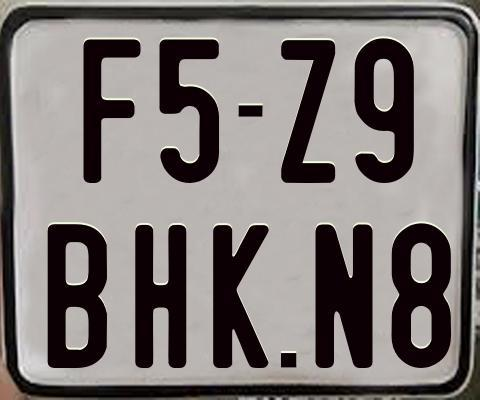5: (159, 37, 224, 186)
8: (389, 223, 453, 373)
9: (352, 38, 415, 186)
B: (47, 224, 111, 369)
F: (82, 38, 145, 186)
H: (132, 224, 186, 370)
K: (210, 224, 272, 373)
N: (312, 224, 370, 370)
Z: (278, 37, 334, 183)
